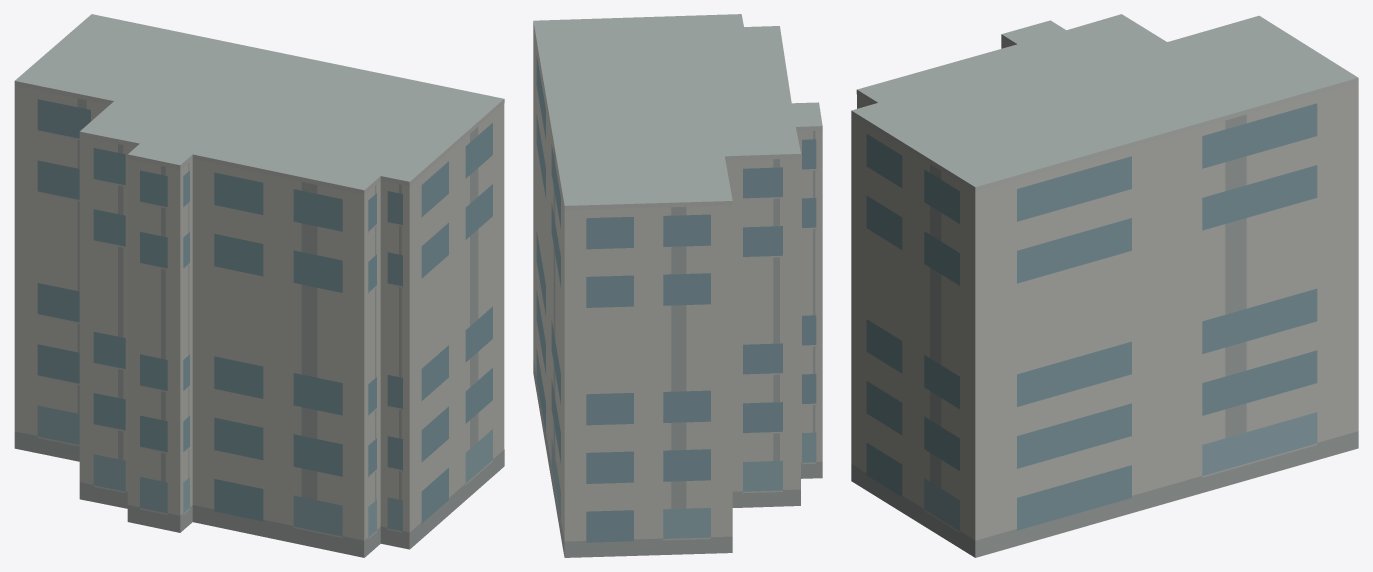
File: survey-upis-32954886.glb
3 views of the same model, side by side, from view 1: azimuth 30°, elevation 25°; view 2: azimuth 150°, elevation 25°; view 3: azimuth 270°, elevation 25° (orthographic). The views are drawn at different scales.
Visible parts, largest first — view 1: survey-upis-32954886.tmp; view 2: survey-upis-32954886.tmp; view 3: survey-upis-32954886.tmp.
Part boxes in pixels (box(x1,y1,x2,y2)): survey-upis-32954886.tmp: box(14, 14, 504, 557); survey-upis-32954886.tmp: box(533, 14, 822, 557); survey-upis-32954886.tmp: box(851, 14, 1358, 557).
Bounding box in the file's own units: 19.11 × 19.05 × 23.63.
